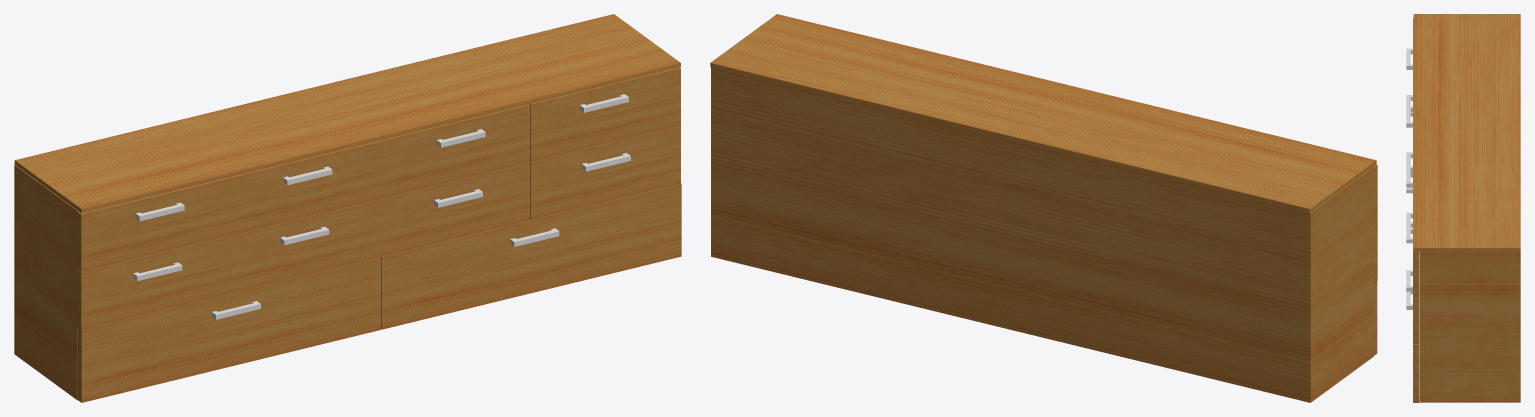
The model's file is MobileOfficina.dae.
3 renders of one model, left to right at view 1: azimuth 30°, elevation 25°; view 2: azimuth 150°, elevation 25°; view 3: azimuth 270°, elevation 25°, orthographic. The views are drawn at different scales.
Visible parts, largest first — view 1: Cube_009; view 2: Cube_009; view 3: Cube_009, Cube_010_002, Cube_007_002, Cube_016, Cube_015, Cube_011_002.
Boxes of the visible parts, <box> form: Cube_009: <box>14,14,681,402</box>; Cube_009: <box>710,14,1377,402</box>; Cube_009: <box>1413,14,1520,402</box>; Cube_010_002: <box>1406,222,1412,243</box>; Cube_007_002: <box>1406,48,1412,69</box>; Cube_016: <box>1406,166,1412,187</box>; Cube_015: <box>1406,106,1412,127</box>; Cube_011_002: <box>1406,270,1412,291</box>.
Bounding box in the file's own units: 2.6 × 0.5351 × 0.8.
1 material, 1 textured.
